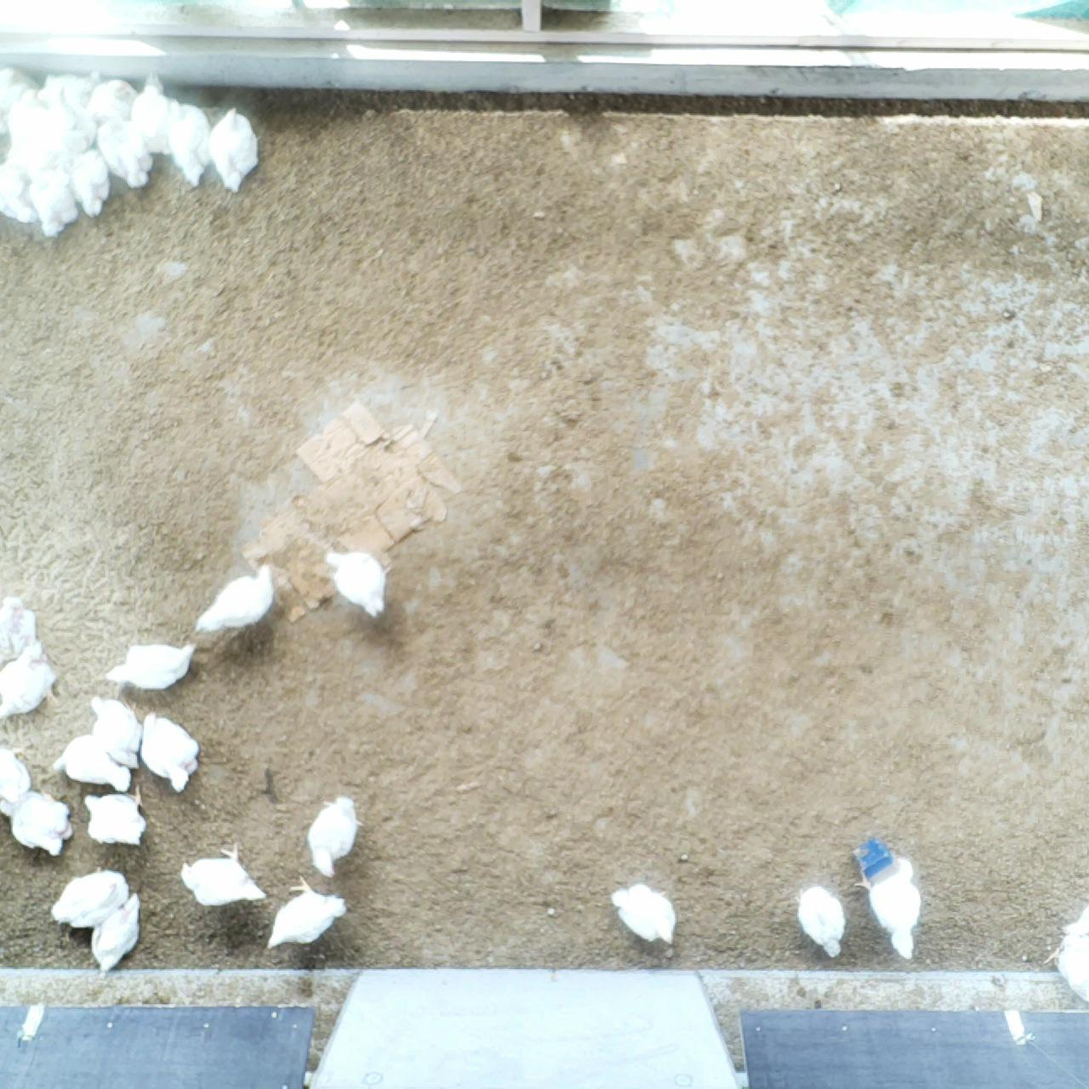chicken: (852, 853, 924, 964), (192, 560, 281, 638), (264, 874, 350, 954), (177, 840, 269, 911), (139, 710, 202, 797), (205, 106, 264, 198), (0, 790, 76, 861), (49, 867, 133, 931), (104, 638, 200, 694), (322, 547, 394, 621), (306, 793, 367, 880), (51, 732, 133, 795), (609, 877, 680, 949), (1043, 897, 1089, 1006), (89, 892, 146, 978), (163, 97, 214, 189), (792, 879, 847, 962), (88, 692, 144, 772), (95, 120, 157, 192), (129, 74, 183, 156), (26, 162, 81, 242), (81, 790, 149, 850), (70, 145, 113, 221), (8, 88, 49, 163), (0, 590, 41, 665), (60, 73, 101, 139), (0, 740, 34, 818), (84, 76, 140, 123), (0, 154, 37, 225), (0, 66, 40, 125)
